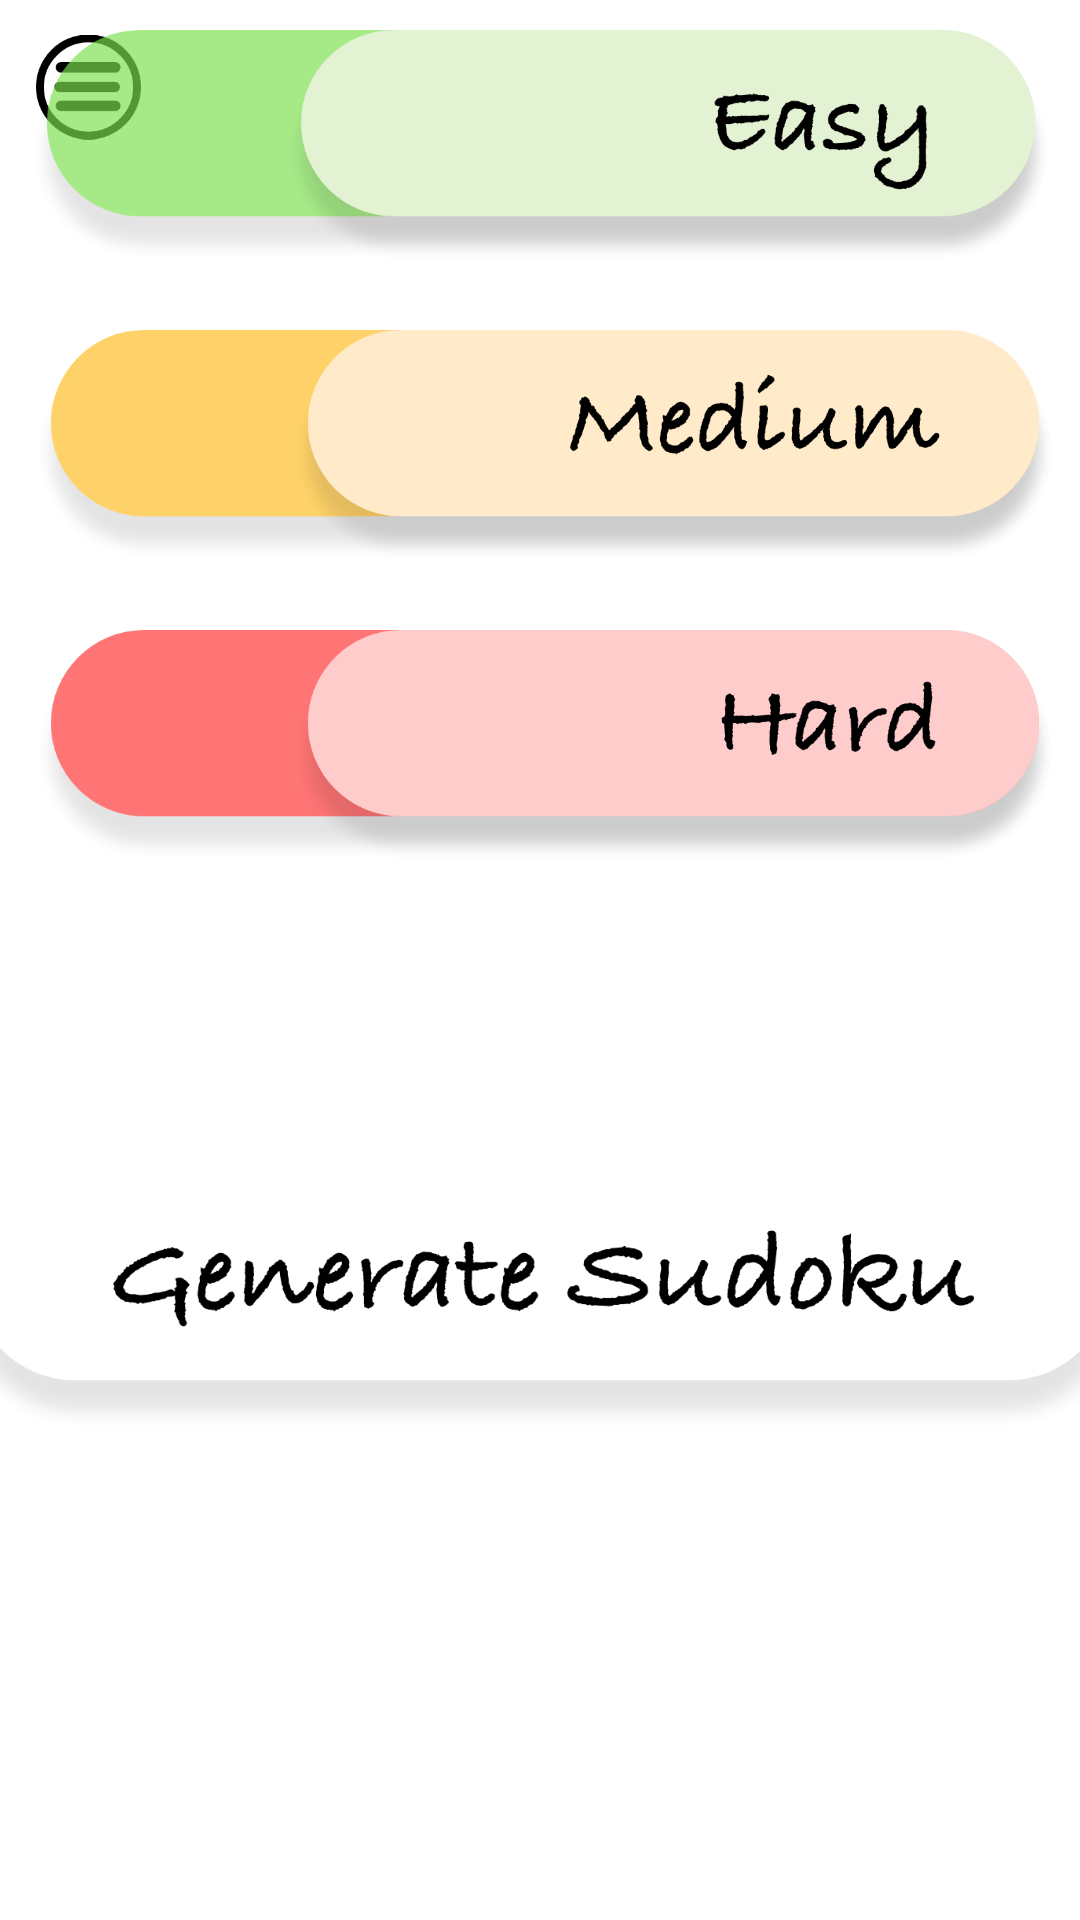

Icons on this 1080 x 1920 Android screen, each with its box as (x1, y1, x2, y2):
backmenu: (0, 0, 177, 174)
